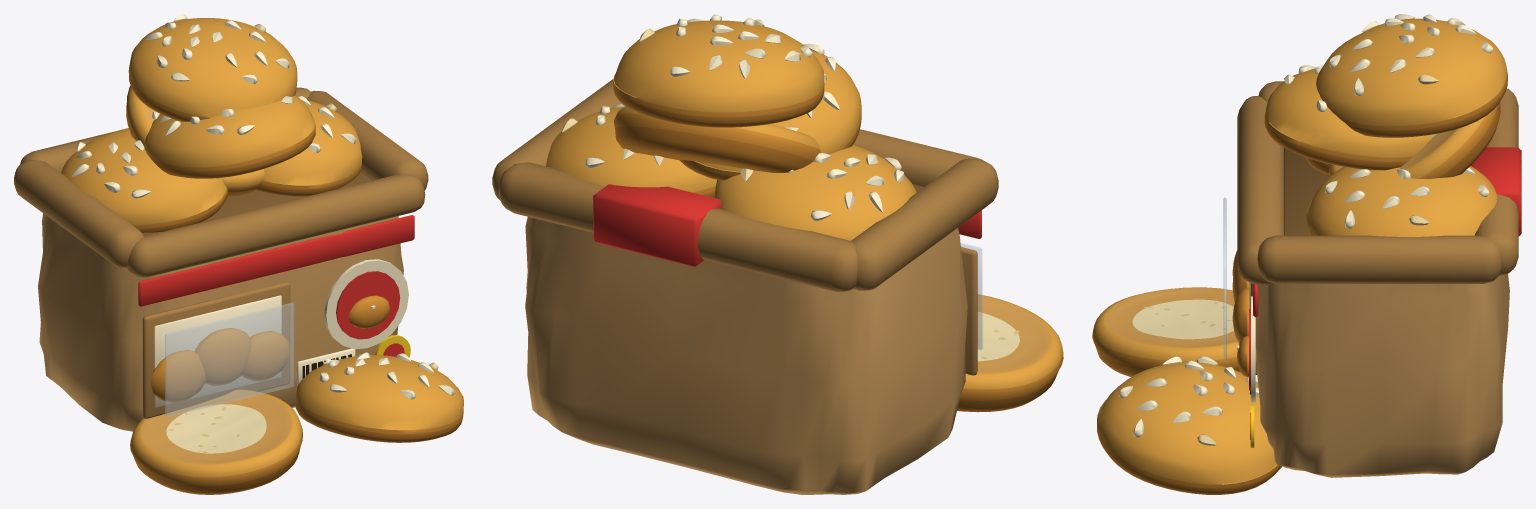
File: dispenser_buns.glb
The picture shows the model from 3 angles, left to right: view 1: azimuth 30°, elevation 25°; view 2: azimuth 150°, elevation 25°; view 3: azimuth 270°, elevation 25°; orthographic projection. The views are drawn at different scales.
Visible parts, largest first — view 1: DispenserBuns; view 2: DispenserBuns; view 3: DispenserBuns.
Boxes of the visible parts, x1=… form: DispenserBuns: x1=14, y1=14, x2=463, y2=494; DispenserBuns: x1=492, y1=14, x2=1063, y2=494; DispenserBuns: x1=1092, y1=14, x2=1521, y2=494.
Bounding box in the file's own units: 5.61 × 5.77 × 5.76.
